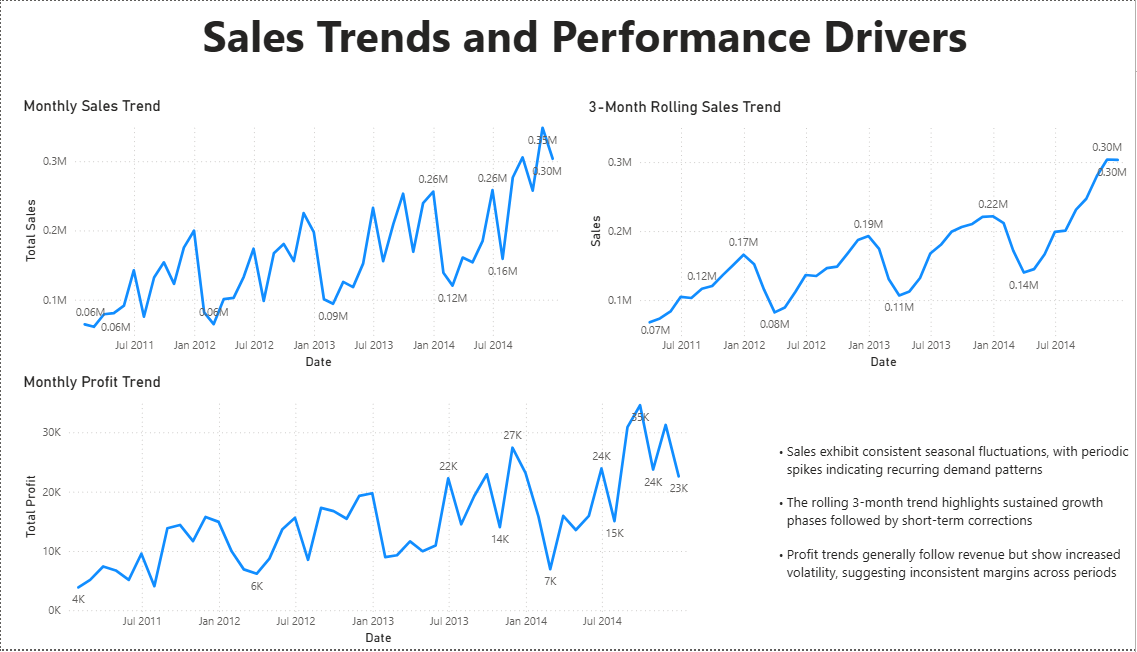

This screenshot's page, from the dashboard's own definition file:
{"tool":"powerbi","page":{"name":"Trend & Seasonality Analysis","canvas":[1280,720],"ordinal":1},"visuals":[{"type":"textbox","box":[218.9,0,870,76.7],"z":0},{"type":"lineChart","title":"Monthly Sales Trend","fields":{"Y":["Sum(monthly_sales_timeseries.total_sales)"],"Category":["monthly_sales_timeseries.order_date"]},"box":[20,106.7,620,306.7],"z":1000},{"type":"lineChart","title":"3-Month Rolling Sales Trend","fields":{"Y":["Sum(monthly_sales_timeseries.rolling_sales_3mo)"],"Category":["monthly_sales_timeseries.order_date"]},"box":[647.8,107.8,620,306],"z":2000},{"type":"lineChart","title":"Monthly Profit Trend","fields":{"Y":["Sum(monthly_sales_timeseries.total_profit)"],"Category":["monthly_sales_timeseries.order_date"]},"box":[20,413.3,760,306.7],"z":3000},{"type":"textbox","box":[850,416.7,417.8,303.3],"z":4000}]}

Visuals, with their boxes in screenshot pixels (x1, y1, x2, y2), scaled from the page's 1280x720 canvas onto the 1137x652 screenshot:
textbox: 194, 0, 967, 69
"Monthly Sales Trend" lineChart: 18, 97, 568, 374
"3-Month Rolling Sales Trend" lineChart: 575, 98, 1126, 375
"Monthly Profit Trend" lineChart: 18, 374, 693, 651
textbox: 755, 377, 1126, 651
